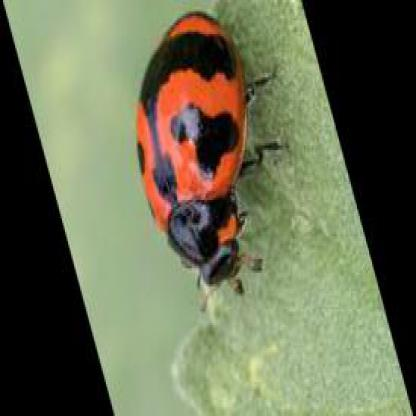uroleucon compositae: (135, 14, 262, 293)
